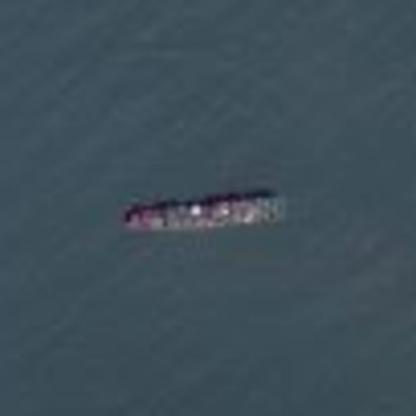ship: (116, 180, 290, 248)
